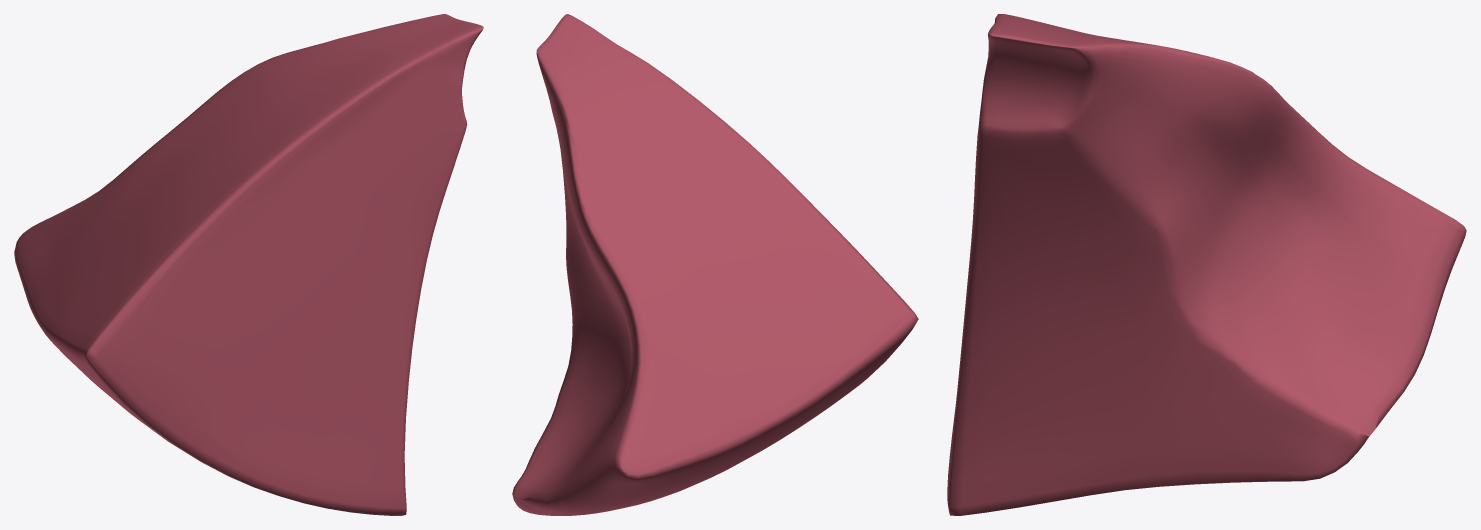
3 renders of one model, left to right at view 1: azimuth 30°, elevation 25°; view 2: azimuth 150°, elevation 25°; view 3: azimuth 270°, elevation 25°, orthographic. The views are drawn at different scales.
Visible parts, largest first — view 1: 肝右前叶下段（第5段）; view 2: 肝右前叶下段（第5段）; view 3: 肝右前叶下段（第5段）.
Boxes of the visible parts, x1,y1,x2,y2 form: 肝右前叶下段（第5段）: (14, 14, 483, 515); 肝右前叶下段（第5段）: (512, 14, 918, 515); 肝右前叶下段（第5段）: (947, 14, 1466, 515).
Size of the model in its own units: 0.1119 by 0.1231 by 0.108.
